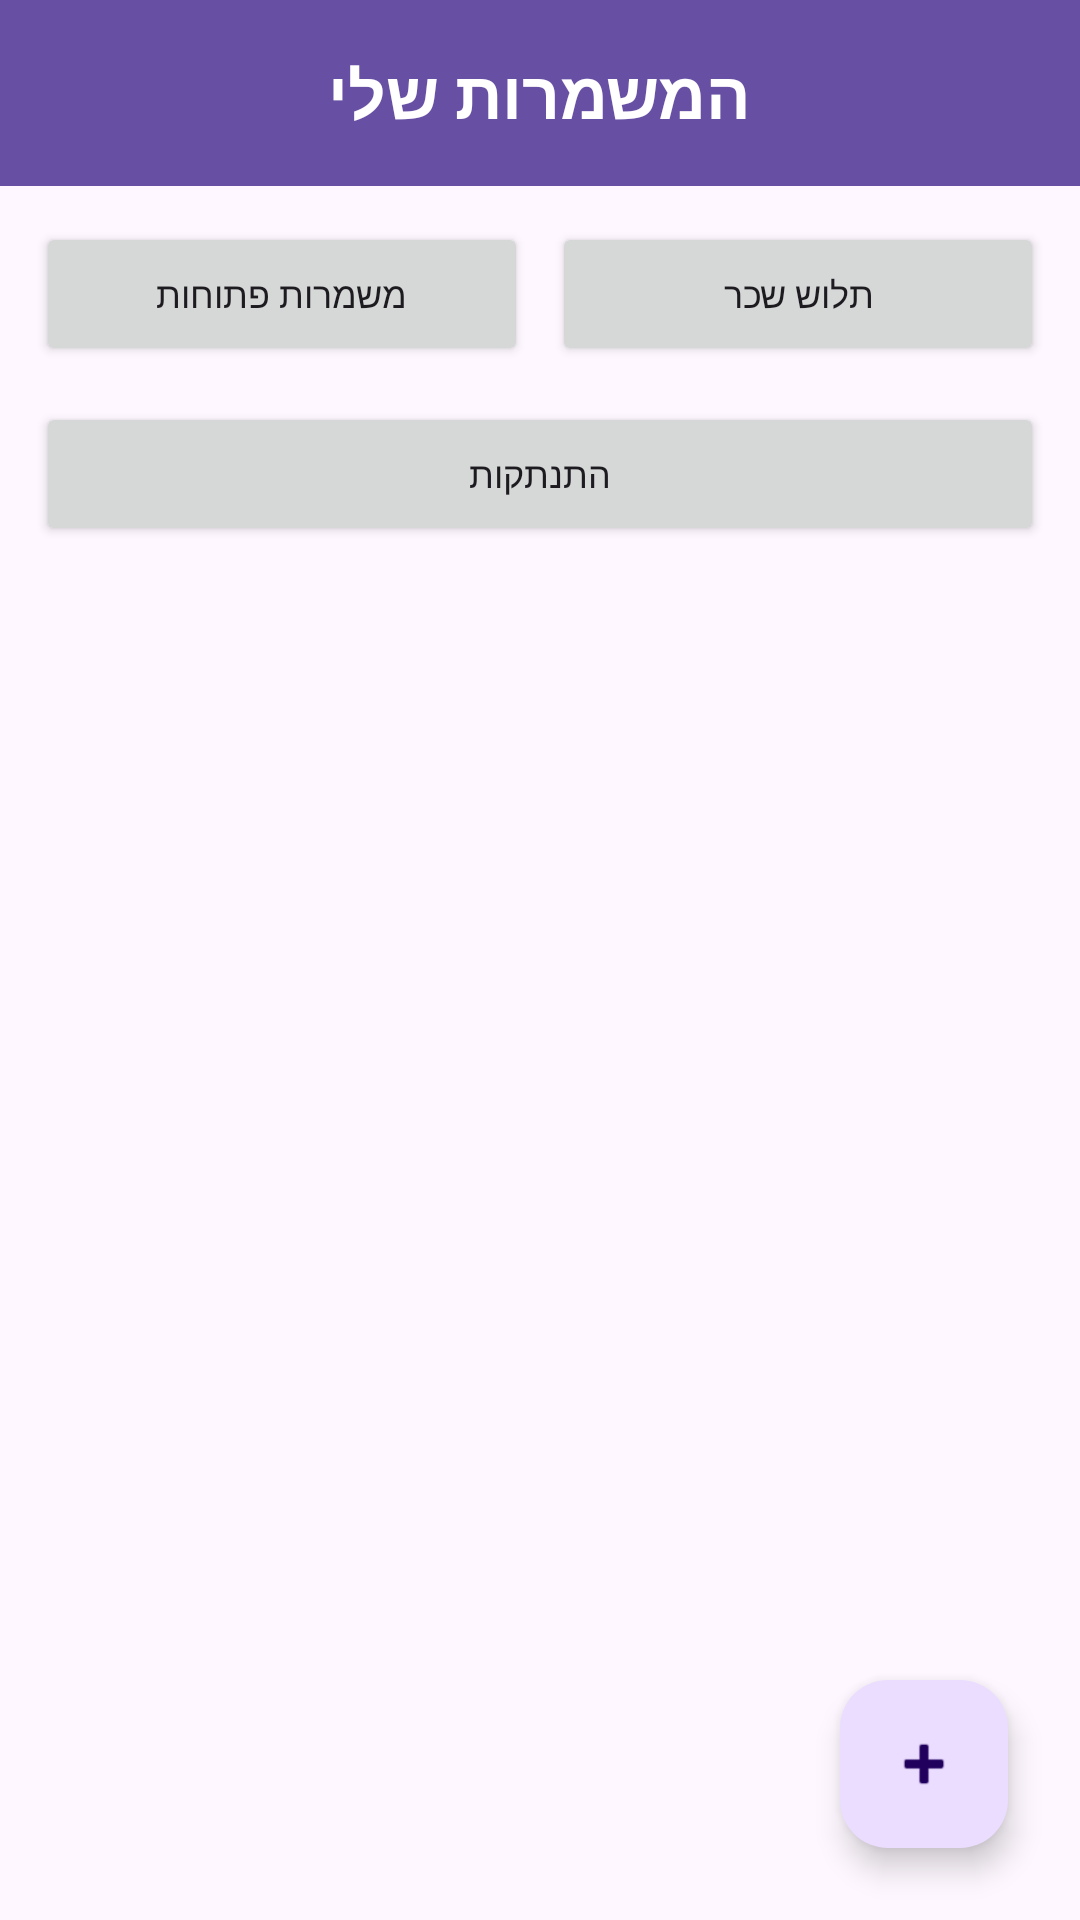

Icon click points for this 1080px×1920px phone screenshot, format (x,y):
הוספת משמרת: (924,1764)
